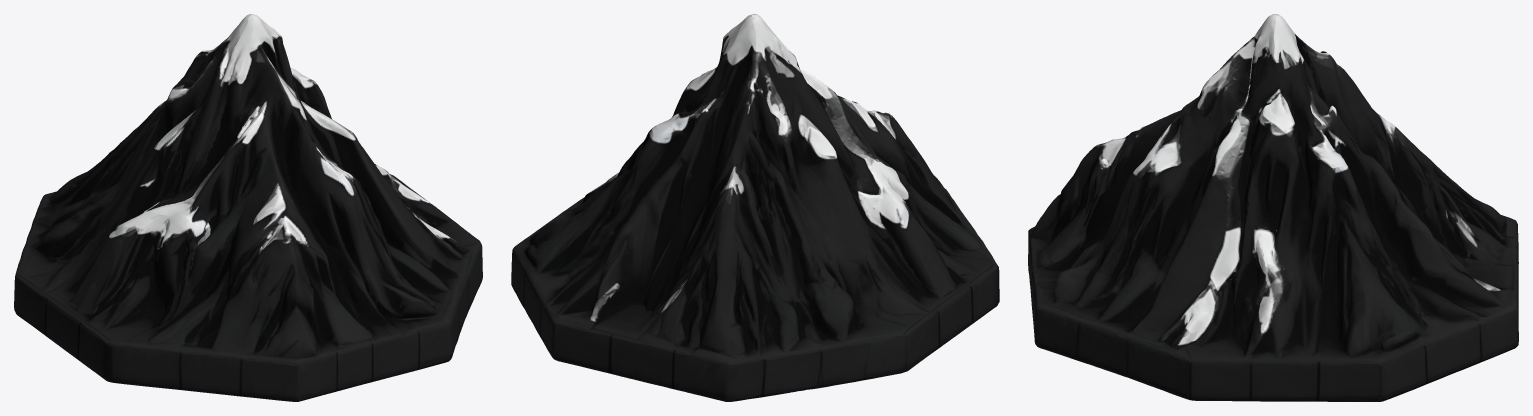
The model's file is stone.glb.
3 views of the same model, side by side, from view 1: azimuth 30°, elevation 25°; view 2: azimuth 150°, elevation 25°; view 3: azimuth 270°, elevation 25° (orthographic). The views are drawn at different scales.
Parts seen in each view (by area): view 1: textured_mesh; view 2: textured_mesh; view 3: textured_mesh.
Boxes of the visible parts, x1,y1,x2,y2 form: textured_mesh: (14,14,482,401); textured_mesh: (511,14,999,401); textured_mesh: (1028,14,1518,401).
Size of the model in its own units: 1.89 by 1.31 by 2.
Materials: 1 (1 with a texture image).
